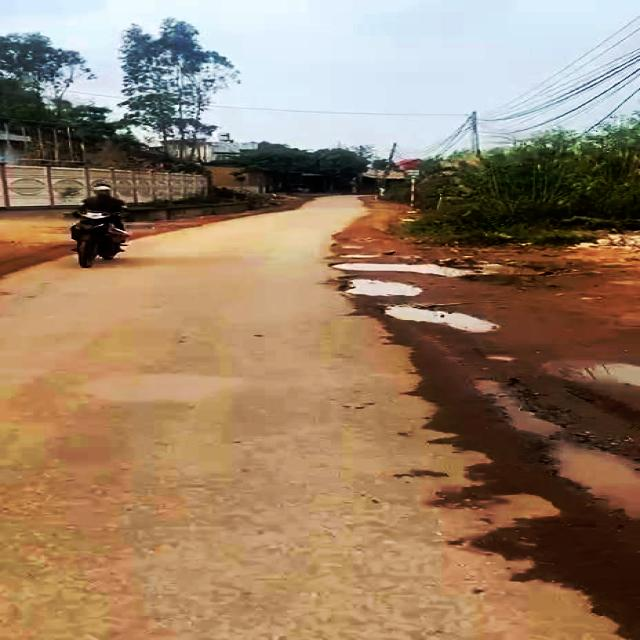pothole: (469, 365, 640, 549), (326, 258, 484, 300), (378, 304, 505, 338)
